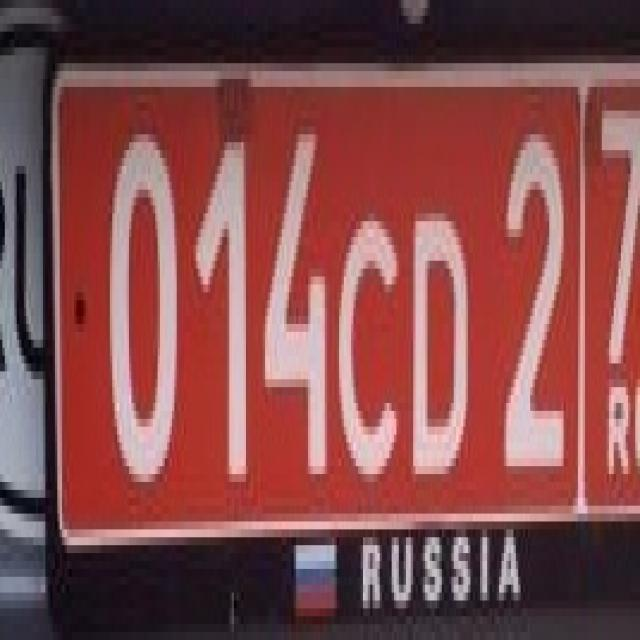licenseplate: (34, 19, 640, 623)
